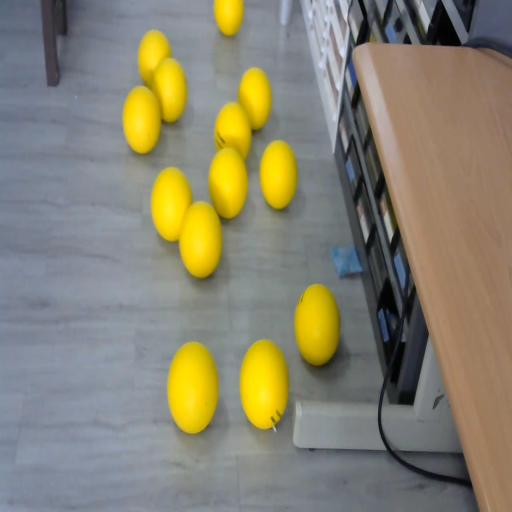FUEL: (166, 340, 220, 433), (239, 337, 290, 430), (294, 281, 340, 366), (179, 200, 223, 278), (150, 166, 194, 242), (208, 146, 248, 218), (259, 139, 298, 210), (122, 85, 162, 154), (152, 58, 188, 123), (238, 67, 272, 130), (214, 0, 244, 36)
